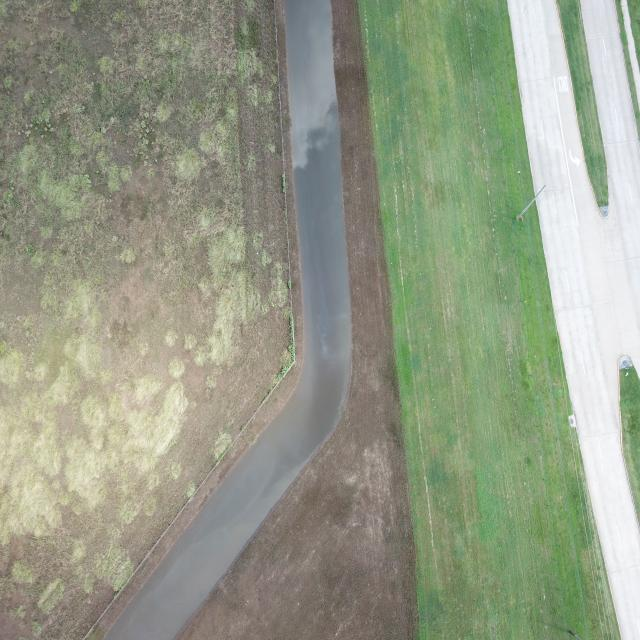fire: (107, 0, 352, 640)
